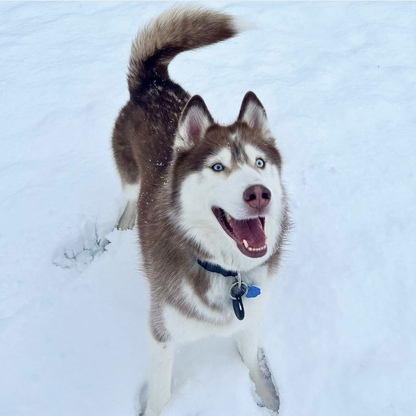husky: (106, 3, 297, 416)
